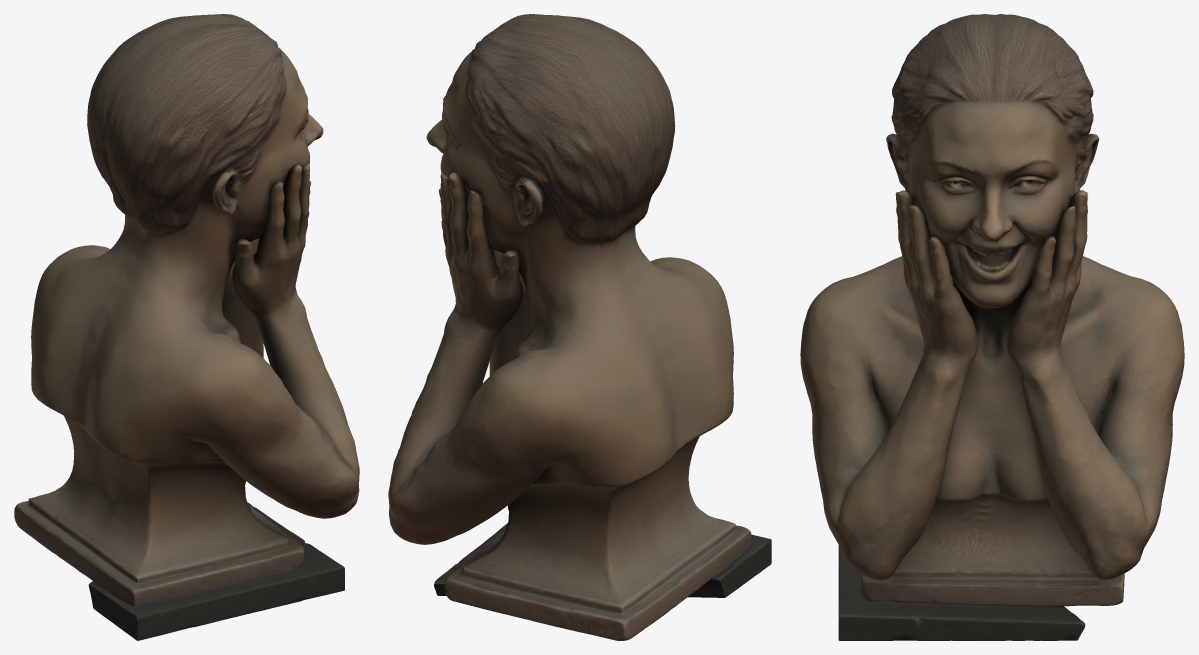
The model's file is bronze-bust.glb.
3 views of the same model, side by side, from view 1: azimuth 30°, elevation 25°; view 2: azimuth 150°, elevation 25°; view 3: azimuth 270°, elevation 25° (orthographic). The views are drawn at different scales.
Parts seen in each view (by area): view 1: tripo_node_2265aeb5-61bb-4ad7-9365-c5b0ec3216b5; view 2: tripo_node_2265aeb5-61bb-4ad7-9365-c5b0ec3216b5; view 3: tripo_node_2265aeb5-61bb-4ad7-9365-c5b0ec3216b5.
Part boxes in pixels (left/top/right/bottom): tripo_node_2265aeb5-61bb-4ad7-9365-c5b0ec3216b5: left=14, top=14, right=359, bottom=640; tripo_node_2265aeb5-61bb-4ad7-9365-c5b0ec3216b5: left=388, top=14, right=771, bottom=640; tripo_node_2265aeb5-61bb-4ad7-9365-c5b0ec3216b5: left=800, top=14, right=1184, bottom=640.
Size of the model in its own units: 0.4934 by 0.9789 by 0.5926.
1 material, 1 textured.
